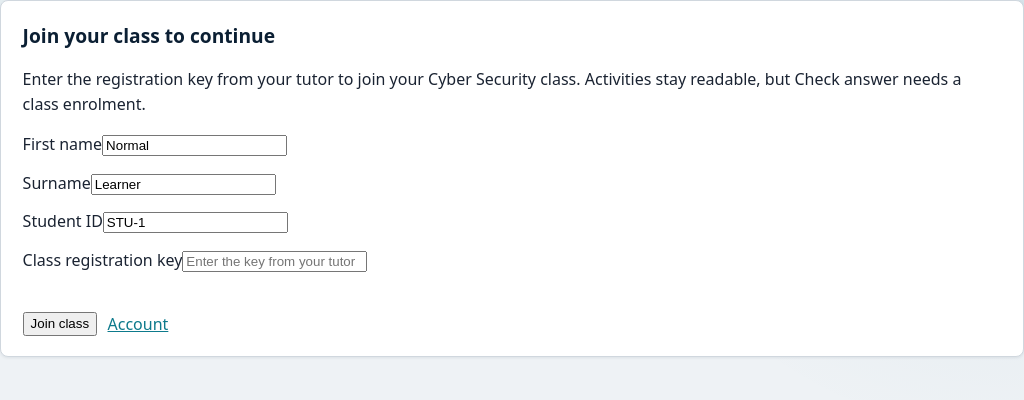
Test: Cyber Security normal learner enrolment › wrong class key is denied and does not invent a second Auth identity
Type "not-the-class-key" into the field labelled "Class registration key" at x=275, y=261, box [182,250,367,272]
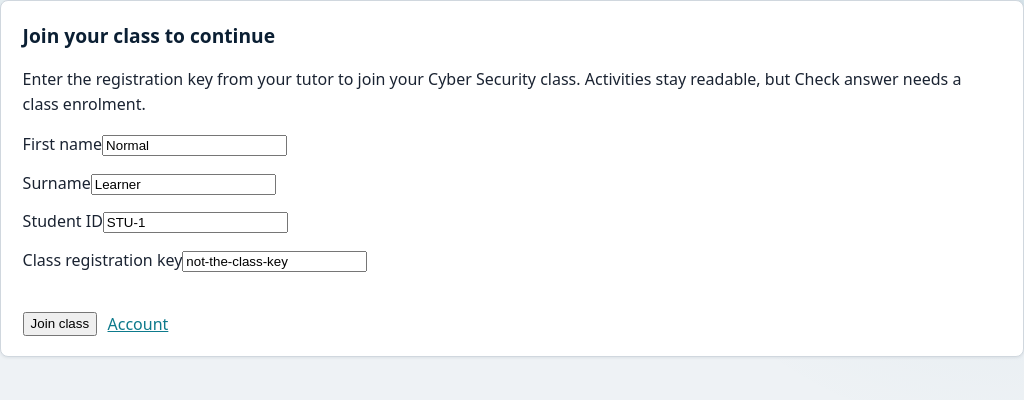
Click the button "Join class" at x=60, y=324, box [23,312,97,336]
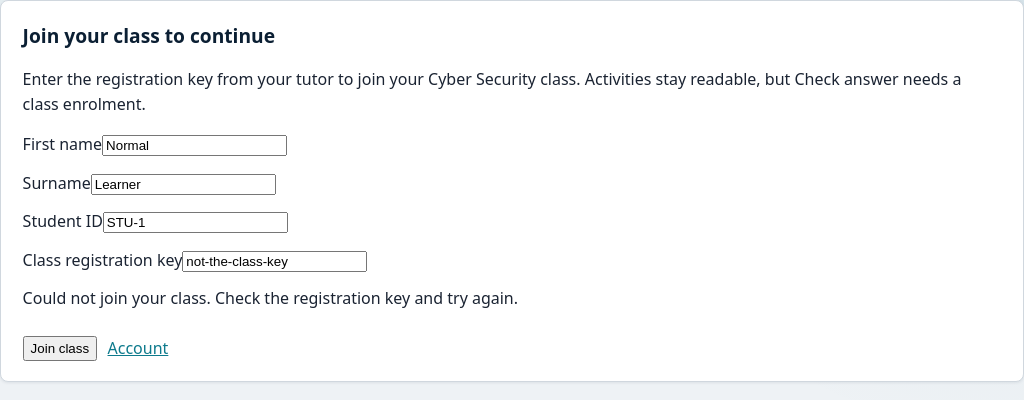
Expected: the text "Could not join your class. Check the registration key and try again." is shown, [23,286,535,311]
